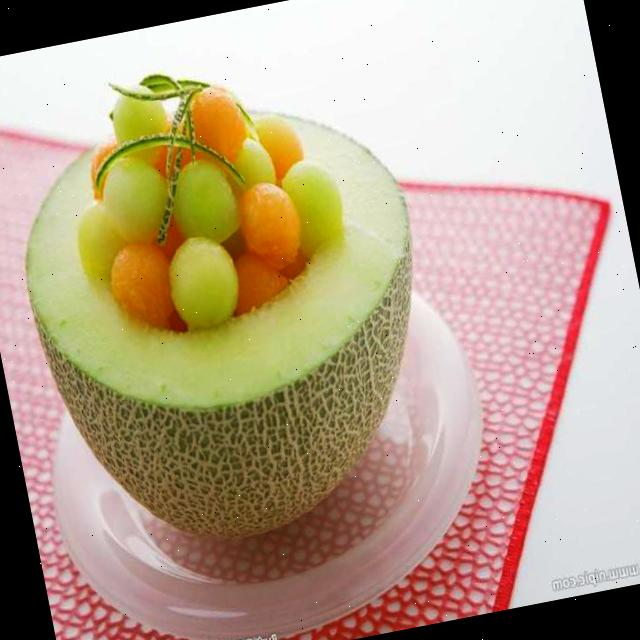Hami Melon: (0, 45, 459, 564)
